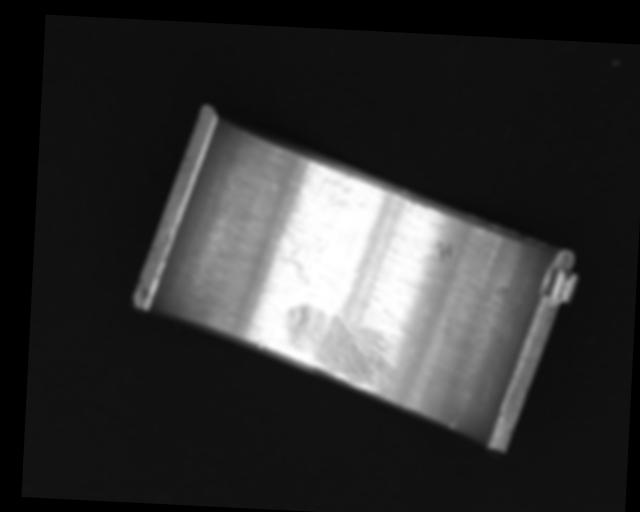blot: (271, 231, 325, 290)
bruise: (433, 240, 453, 261), (253, 339, 267, 349)
nick: (450, 416, 460, 430)
scratch: (283, 301, 401, 390)
